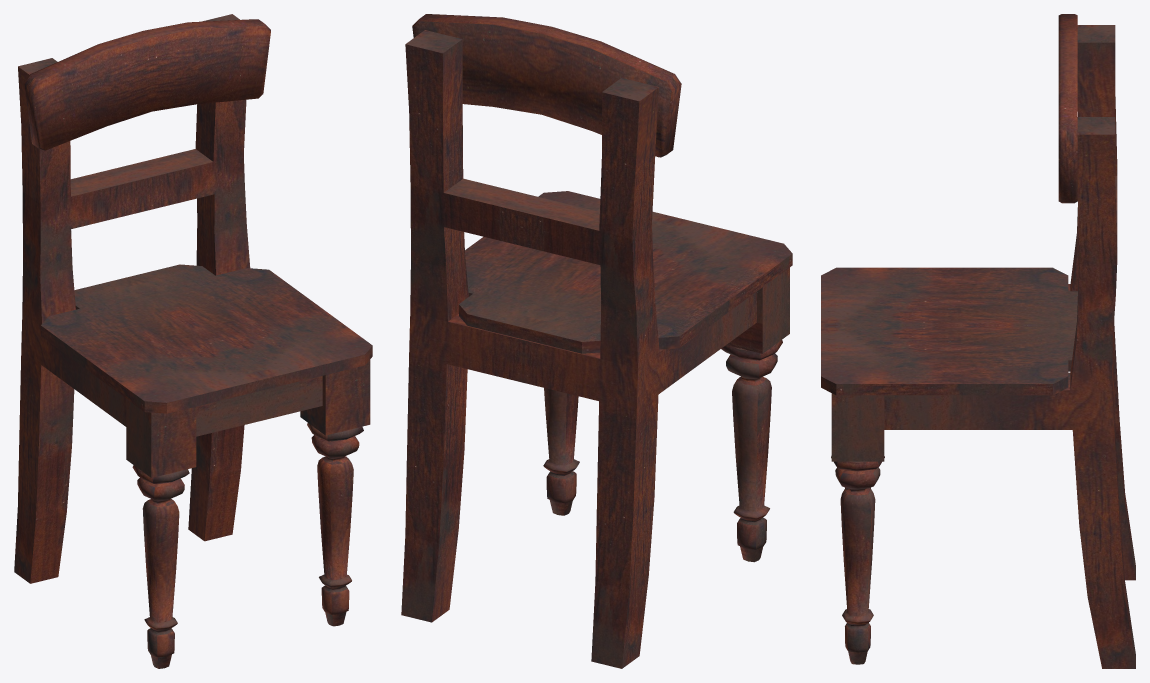
Rendered from chair.obj.
3 renders of one model, left to right at view 1: azimuth 30°, elevation 25°; view 2: azimuth 150°, elevation 25°; view 3: azimuth 270°, elevation 25°, orthographic. The views are drawn at different scales.
Parts seen in each view (by area): view 1: Chair_model_Cube.001; view 2: Chair_model_Cube.001; view 3: Chair_model_Cube.001.
Boxes of the visible parts, x1,y1,x2,y2 form: Chair_model_Cube.001: [14, 14, 372, 668]; Chair_model_Cube.001: [401, 14, 792, 668]; Chair_model_Cube.001: [821, 14, 1135, 668].
Size of the model in its own units: 4.18 by 8.94 by 4.54.
1 material, 1 textured.
